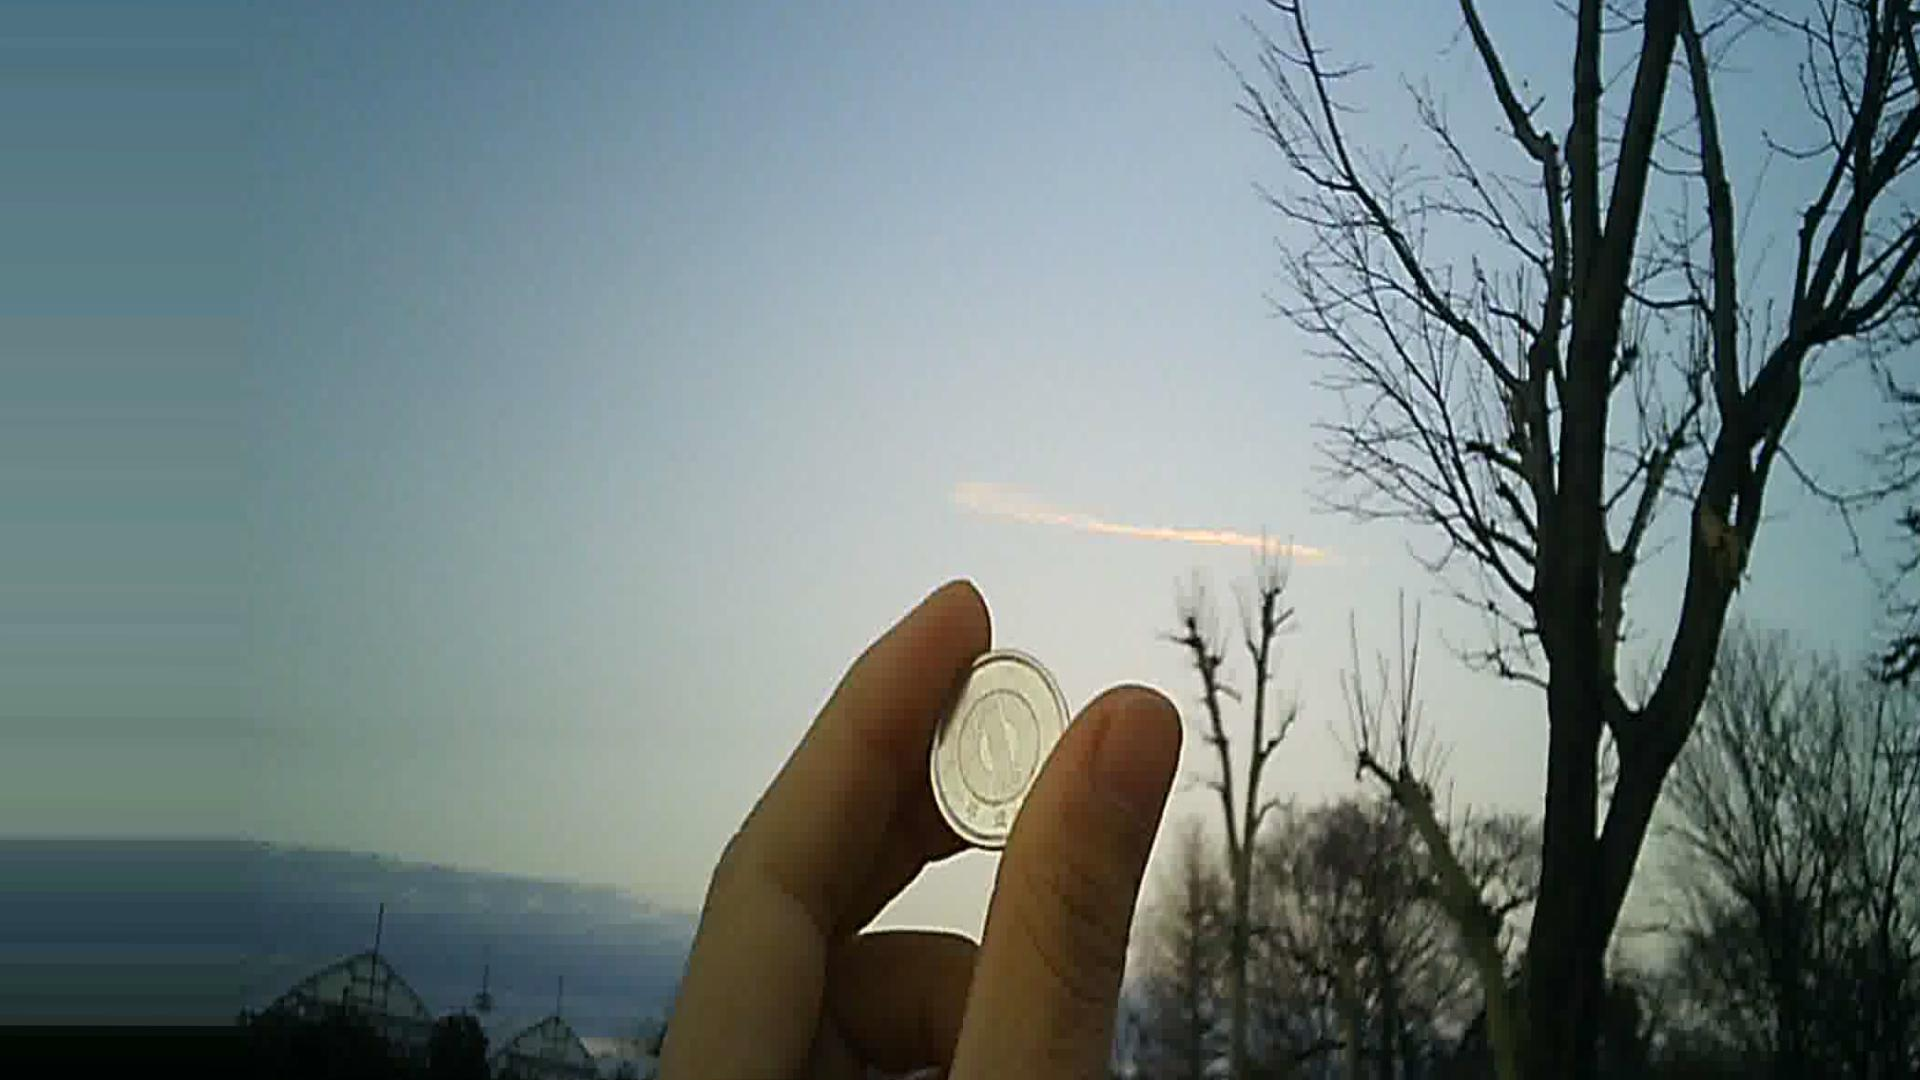1 Yen: (920, 655, 1083, 847)
